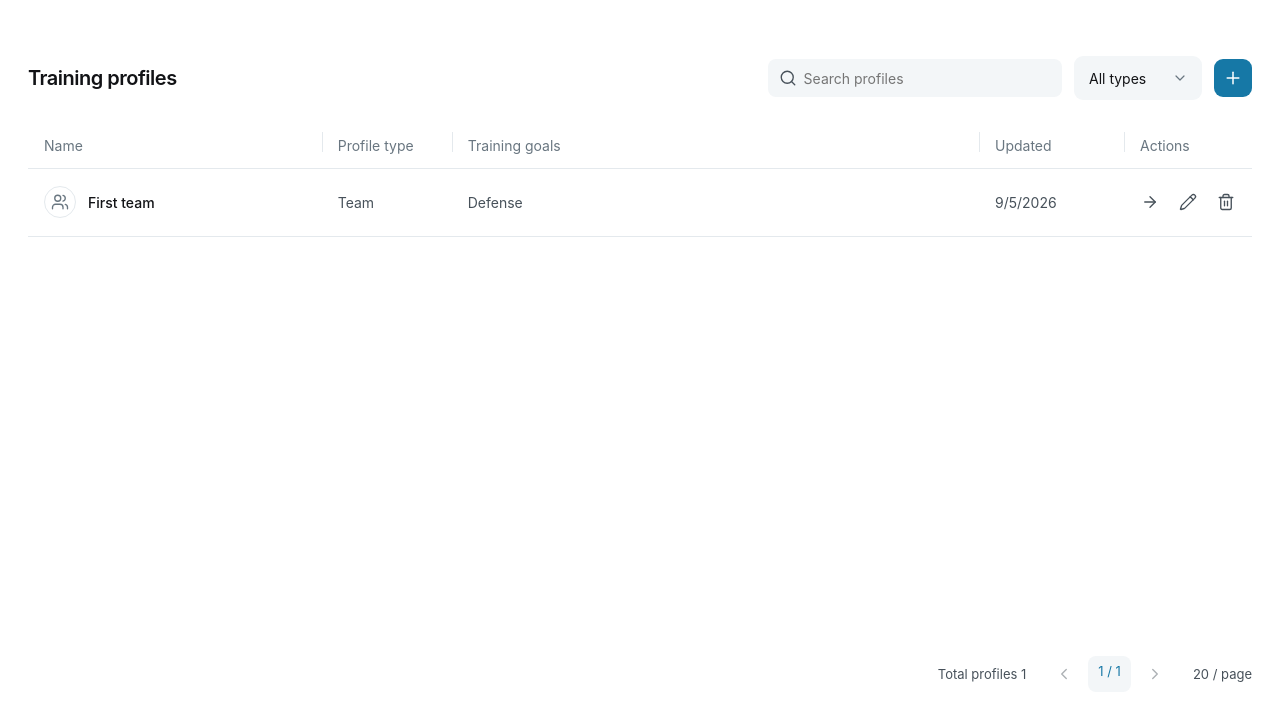
Test: editing a table row keeps the profile type and restores focus to its action
Click the button named "Edit profile · First team".
click(1188, 202)  # box [1170,184,1206,220]
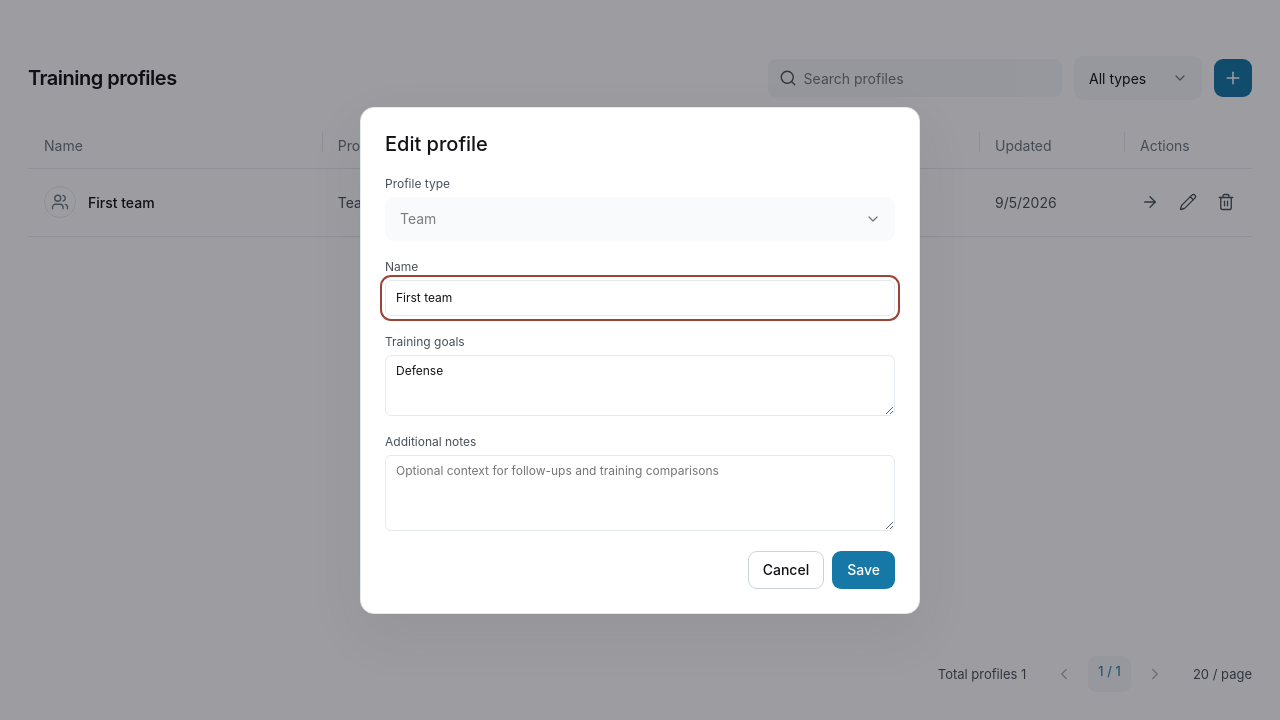
Expected: the dropdown labelled "Profile type" is disabled, [385,196,895,240]
Replace the text in the field labelled "Name" with " Updated team " at point(640, 298), box [385,280,895,316]
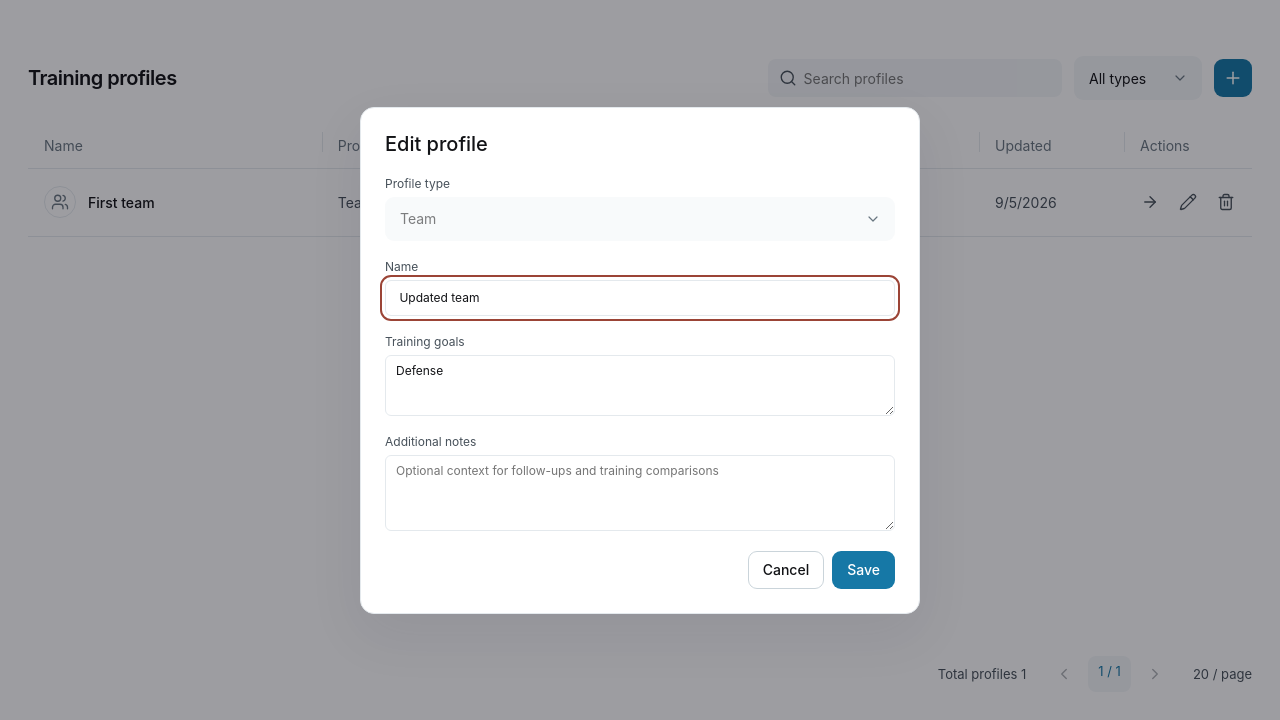
Click the button "Save".
click(864, 570)  # box [832,550,895,588]
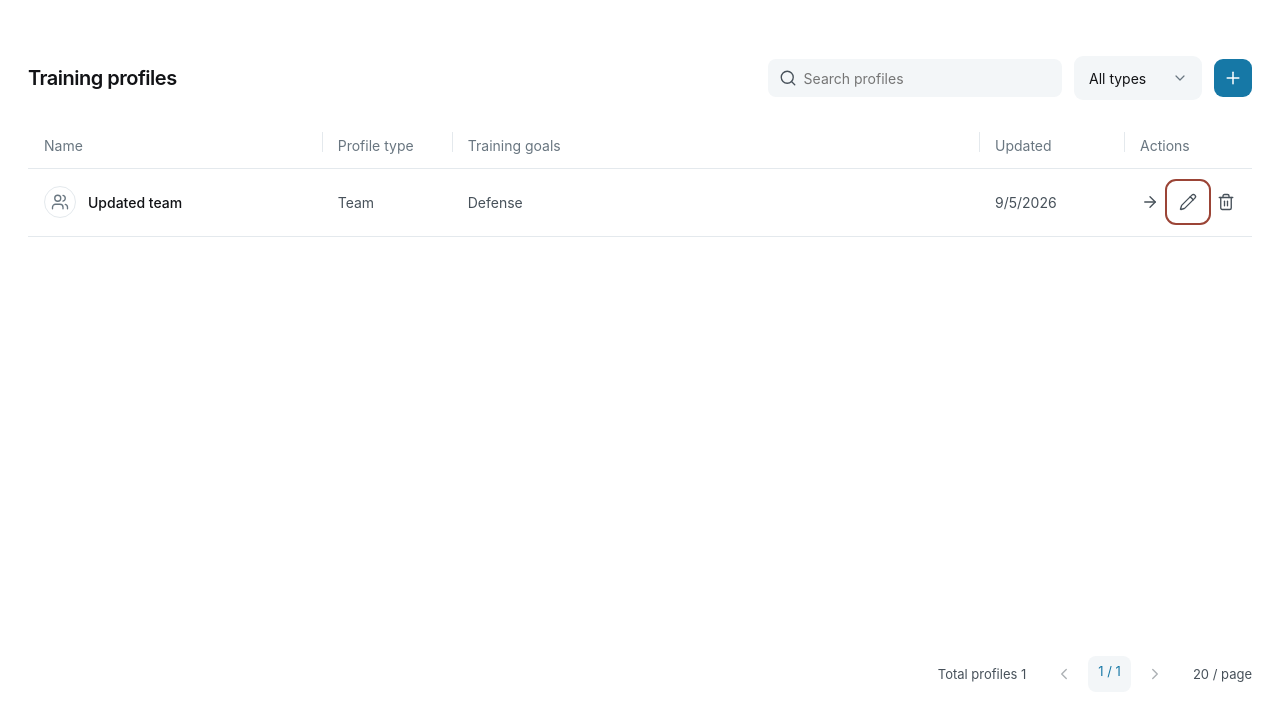
Expected: the link "Updated team" is shown, [44,186,182,218]
